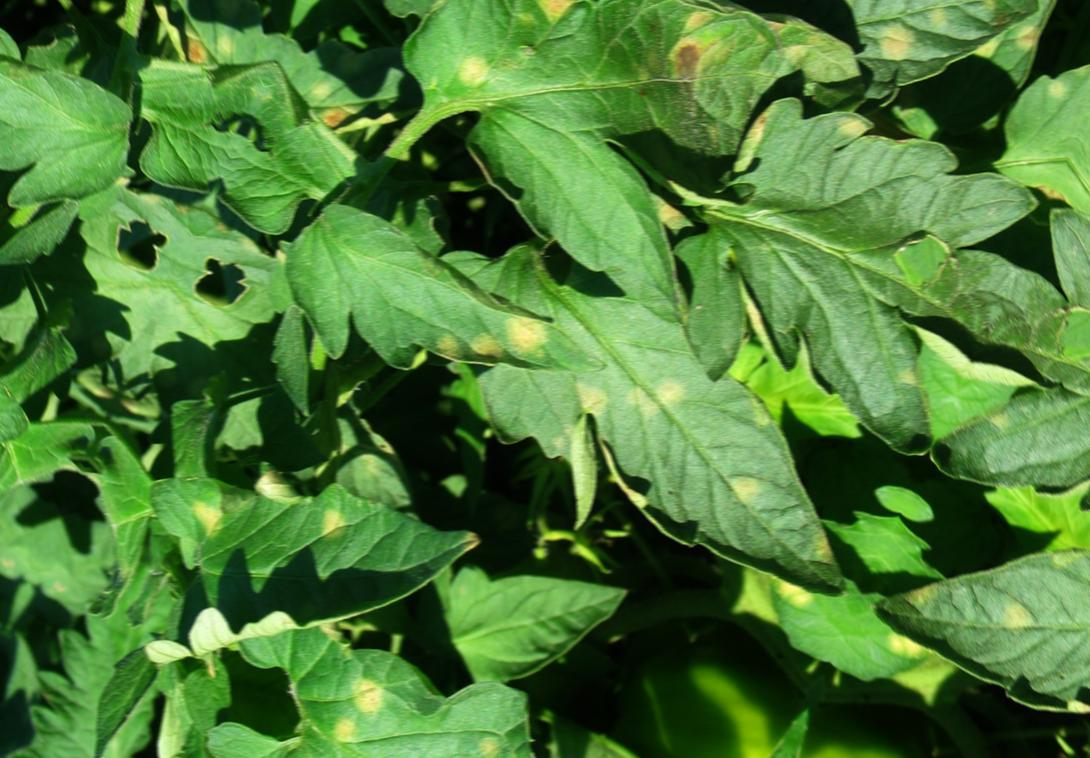Tomato mold leaf: (397, 211, 927, 655), (331, 0, 869, 343), (644, 44, 1061, 473), (98, 399, 470, 749), (260, 186, 624, 449), (156, 588, 703, 758), (728, 0, 1061, 171)
